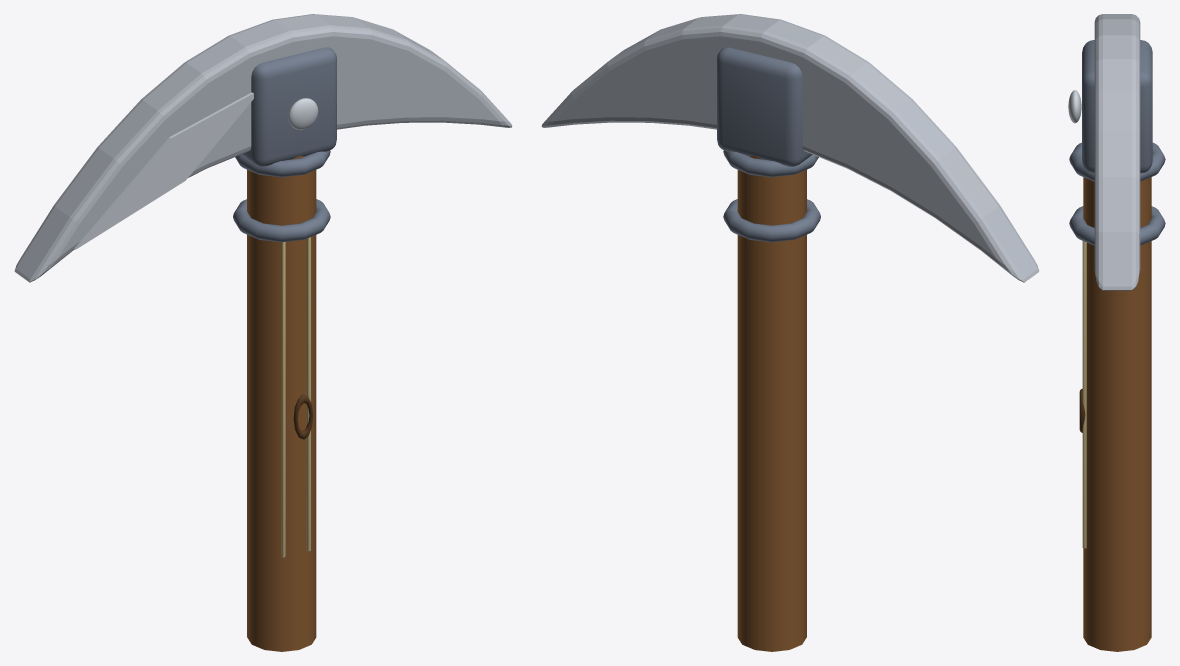
File: pick3.glb
3 views of the same model, side by side, from view 1: azimuth 30°, elevation 25°; view 2: azimuth 150°, elevation 25°; view 3: azimuth 270°, elevation 25° (orthographic).
Visible parts, largest first — view 1: _box.002, _box; view 2: _box.002, _box; view 3: _box, _box.002.
Part boxes in pixels (left/top/right/bottom): _box.002: left=14, top=14, right=512, bottom=282; _box: left=247, top=156, right=316, bottom=651; _box.002: left=541, top=14, right=1039, bottom=282; _box: left=737, top=156, right=806, bottom=651; _box: left=1079, top=177, right=1151, bottom=651; _box.002: left=1068, top=14, right=1165, bottom=290.
Size of the model in its own units: 0.7404 by 0.8956 by 0.131.
